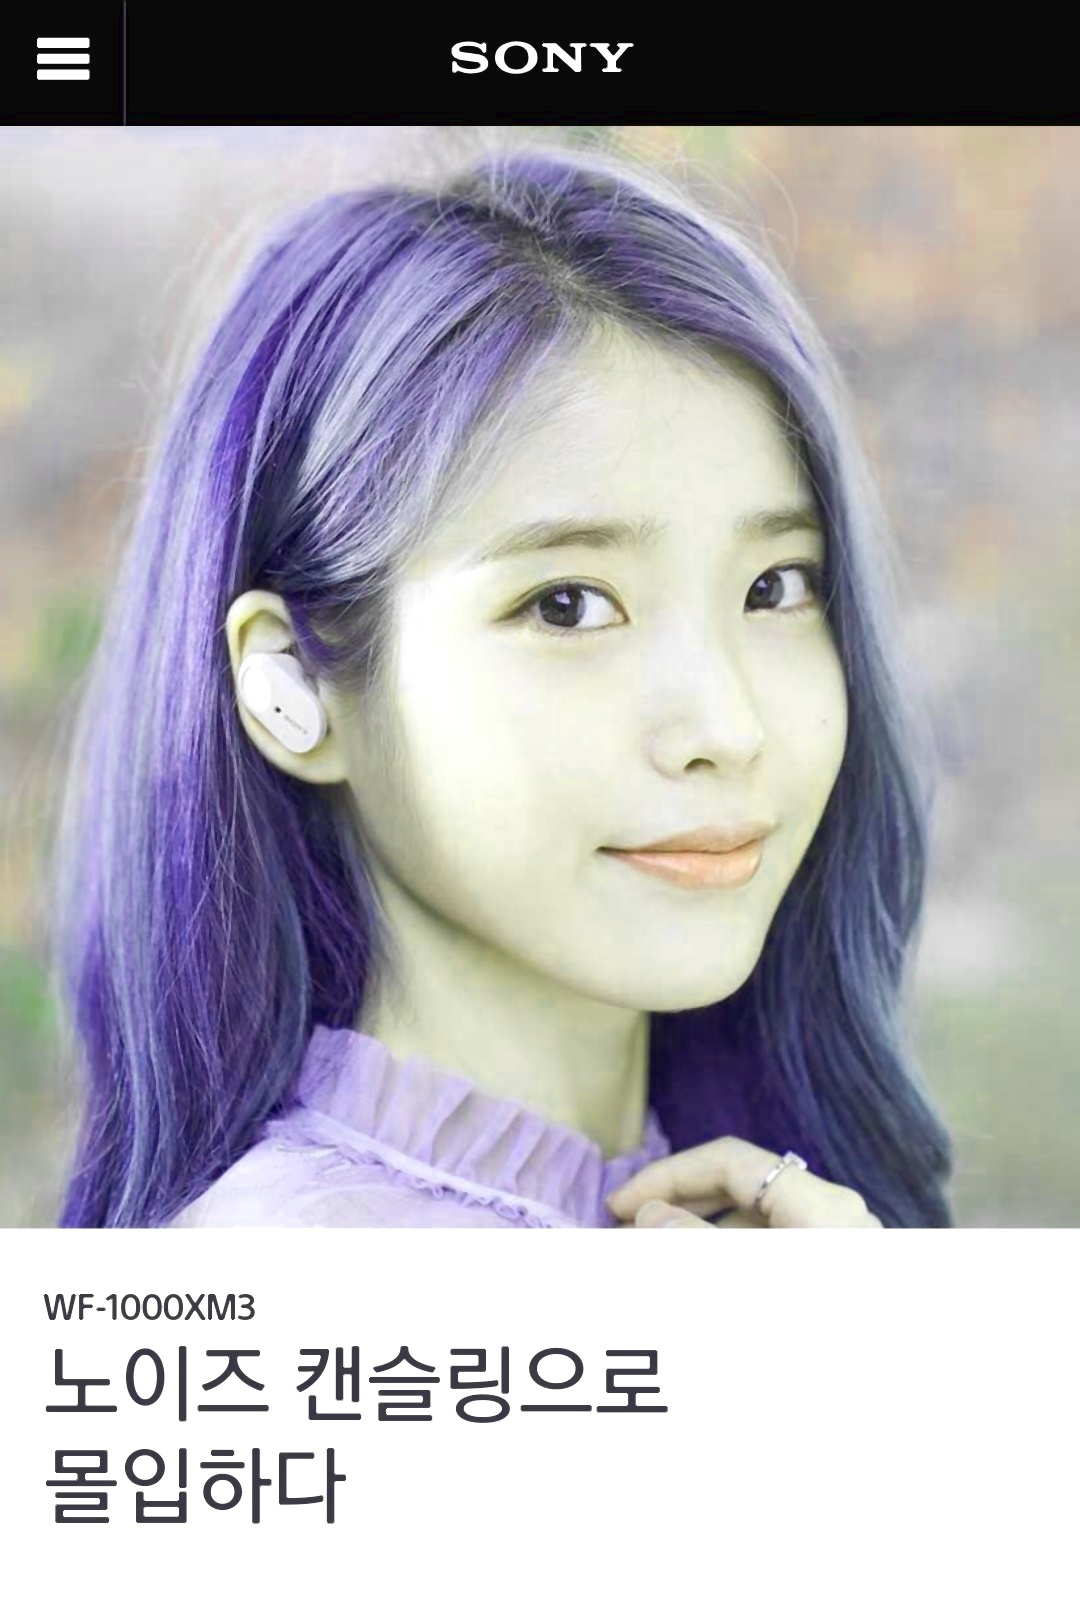earphone: (225, 591, 356, 783)
